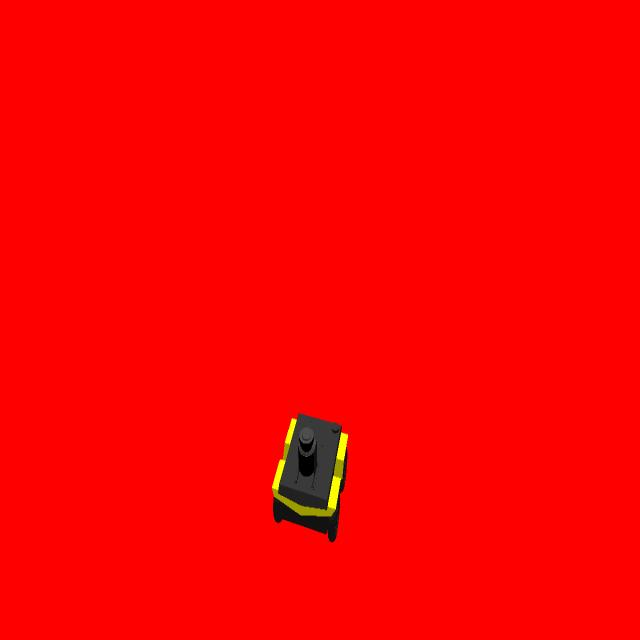jackal: (272, 410, 350, 542)
